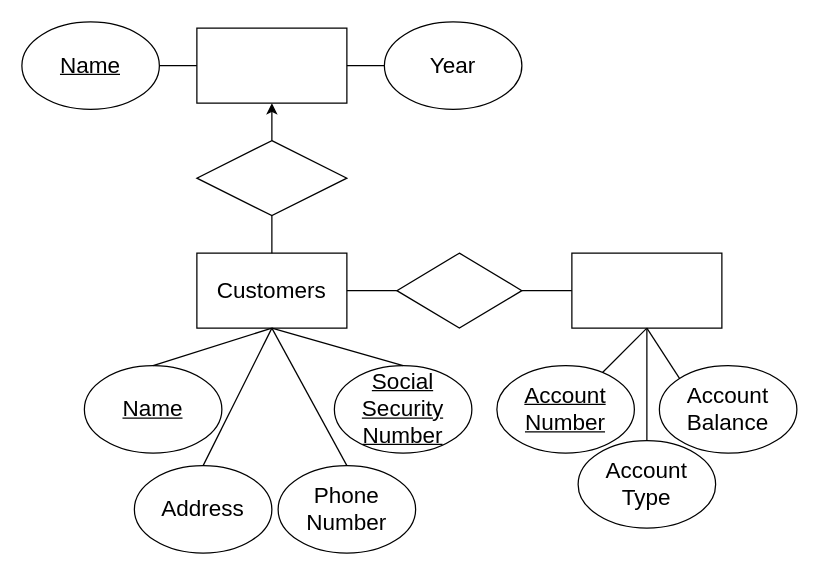
This 819x575 diagram has some shape labels left out. Here are the shapes that lost their labels. From the top down, the box of each, then its label:
(196, 27, 347, 103): Banks
(196, 139, 347, 216): Manages
(396, 252, 522, 328): Owns
(571, 252, 722, 328): Accounts
